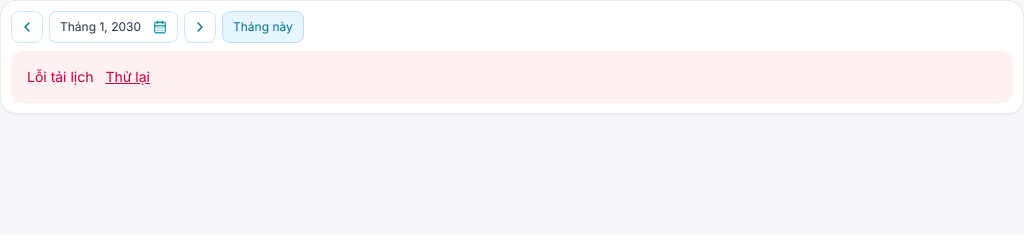
supports empty months and retries failed loads
Expected: the message "Lỗi tải lịch Thử lại" is shown, left=11, top=51, right=1013, bottom=103
Click the button "Thử lại": coordinates (128, 77) left=105, top=67, right=150, bottom=87
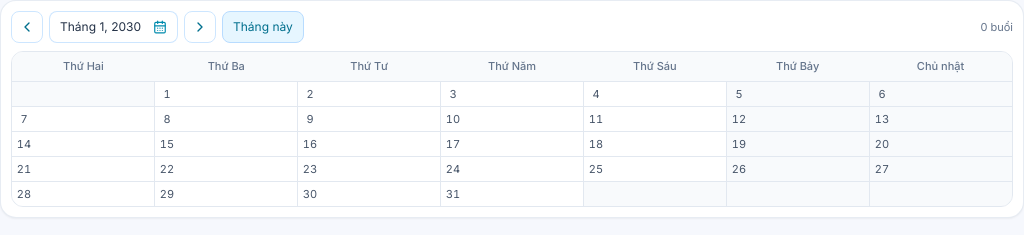
Now the message "Lỗi tải lịch Thử lại" is gone
Now the text "0 buổi" is shown, box left=980, top=19, right=1013, bottom=35
